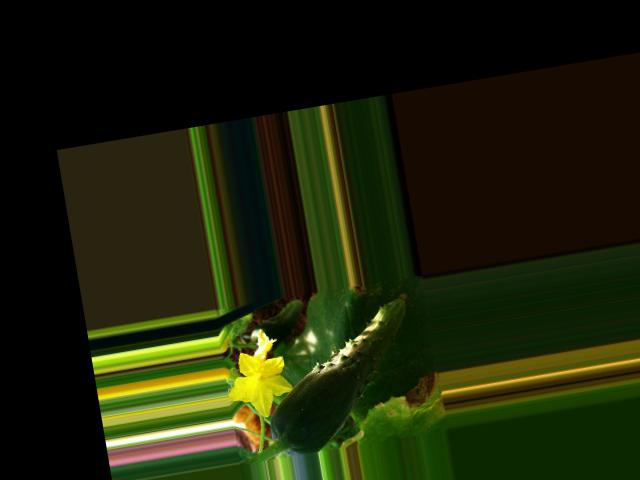cucumber: (251, 292, 430, 459)
